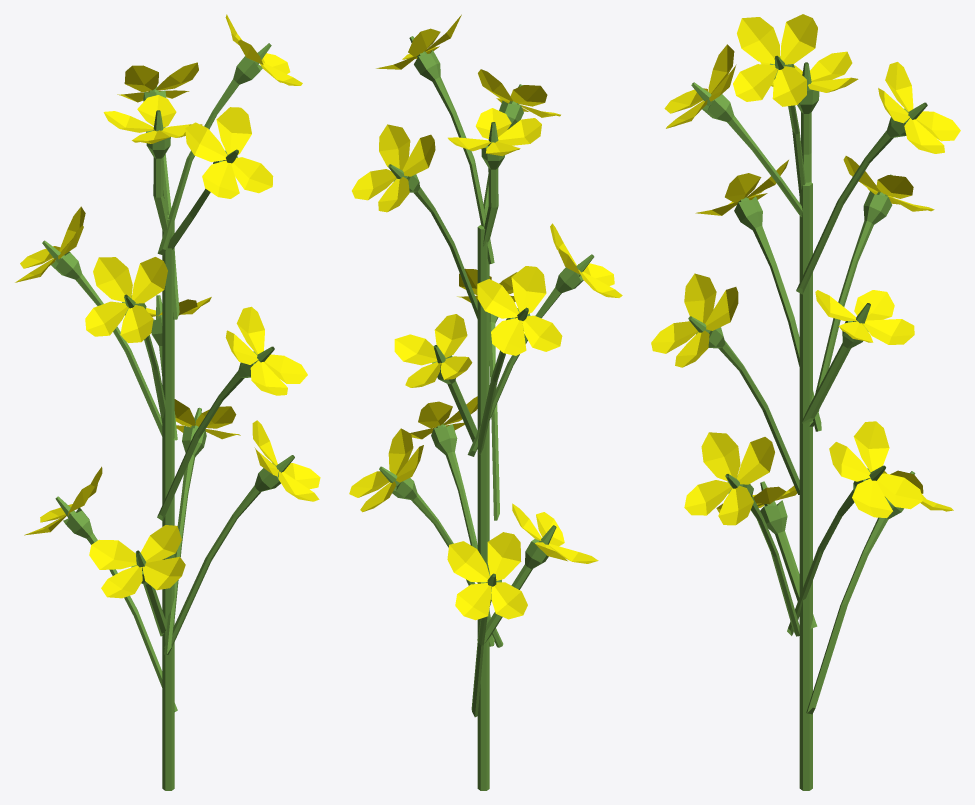
File: mustard.fbx
3 renders of one model, left to right at view 1: azimuth 30°, elevation 25°; view 2: azimuth 150°, elevation 25°; view 3: azimuth 270°, elevation 25°, orthographic. The views are drawn at different scales.
Visible parts, largest first — view 1: mustard; view 2: mustard; view 3: mustard.
Part boxes in pixels (x1,y1,x2,y2): mustard: (15, 14, 320, 790); mustard: (349, 14, 622, 790); mustard: (651, 14, 960, 790).
Bounding box in the file's own units: 0.0361 × 0.1115 × 0.039.
